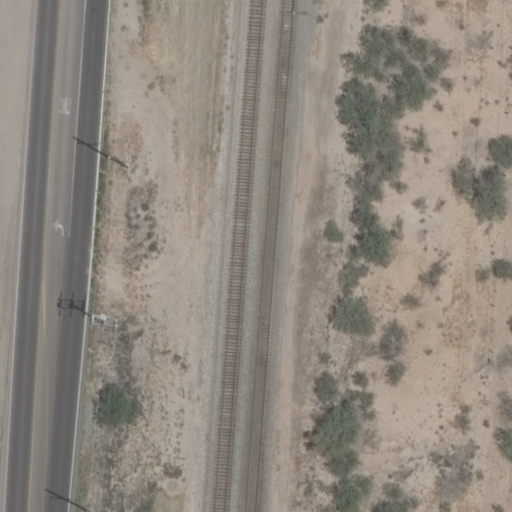DT: (91, 306, 124, 331), (110, 156, 144, 174)
